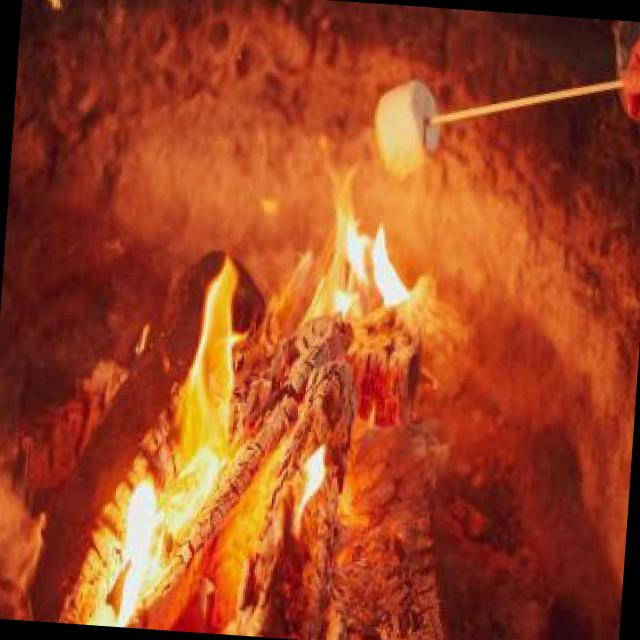Fire: (106, 219, 266, 627), (297, 145, 420, 368)
